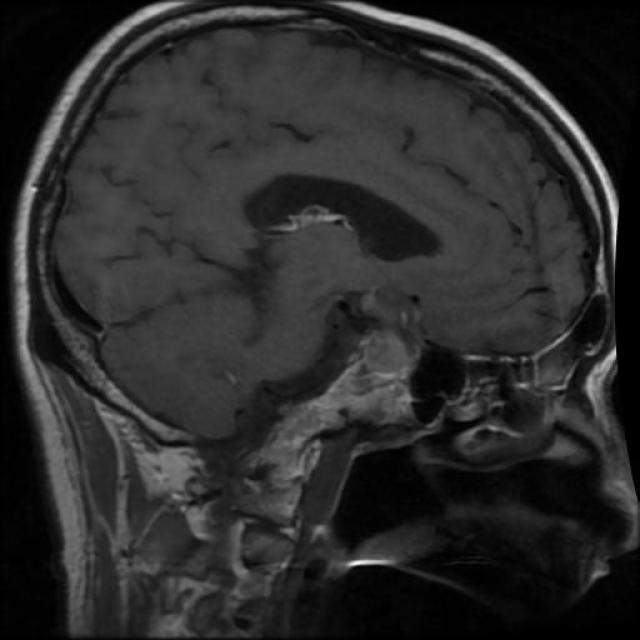pituitary: (324, 292, 422, 421)
